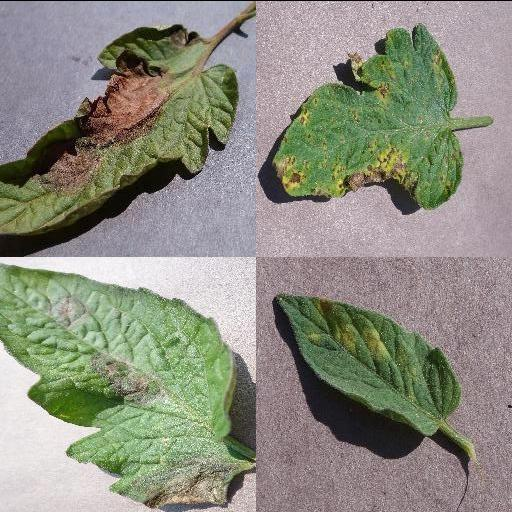Late Blight: (0, 262, 241, 510), (0, 23, 238, 239)
Leaf Mold: (273, 292, 461, 436)
Septoria: (272, 20, 464, 208)
